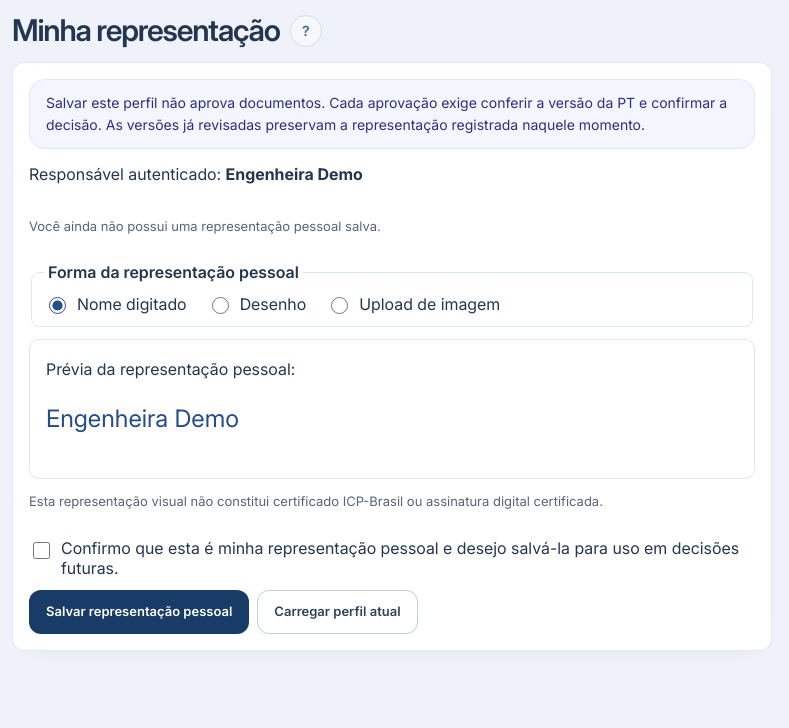
Test: representação pessoal reutilizável › exige confirmação explícita e salva somente perfil, sem aprovar PT
Click the button "Salvar representação pessoal". click: (139, 612)
box: [29,590,249,634]
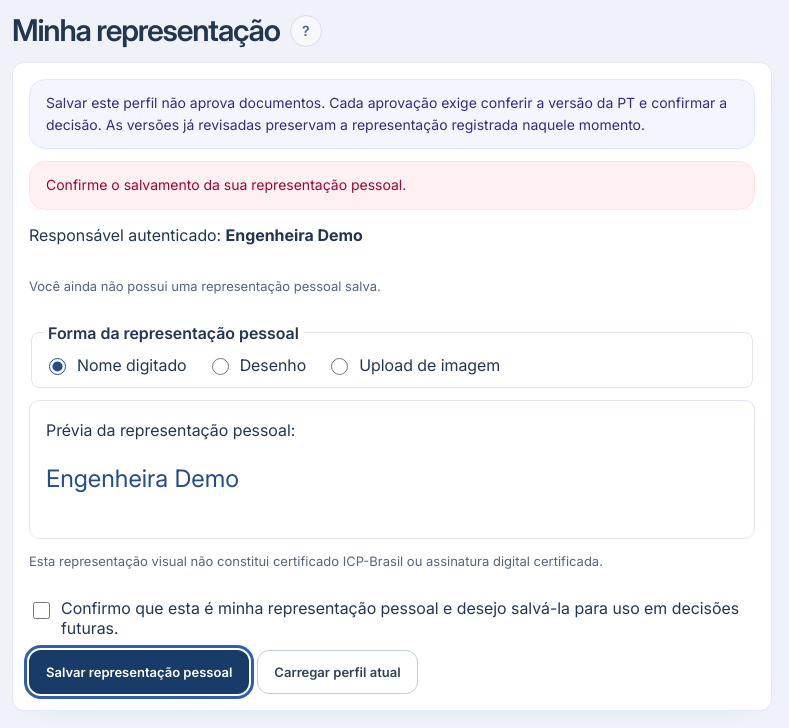
Check: the message "Confirme o salvamento da sua representação pessoal." is shown, box [29,161,755,210]
Click the checkbox. click: (42, 610)
box: [33,602,50,619]
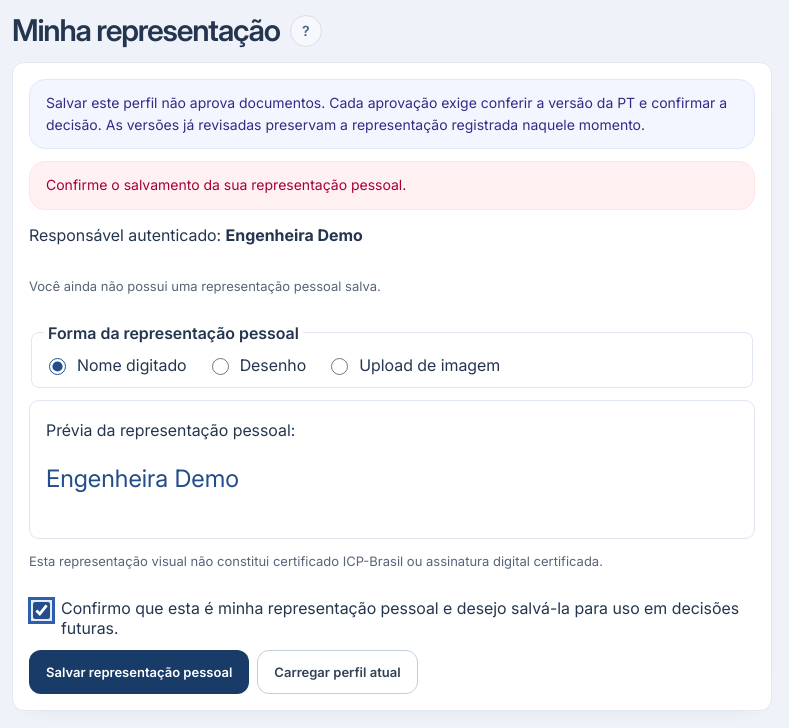
Click the button "Salvar representação pessoal". click: (139, 672)
box: [29,650,249,694]
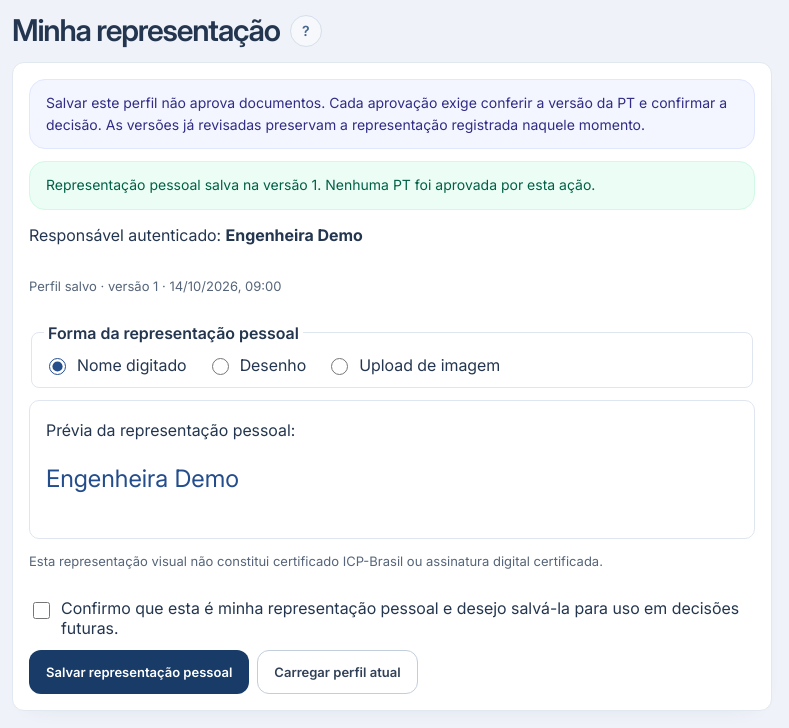
Check: the checkbox is not checked, box [33,602,50,619]
Check: the text "Nenhuma PT foi aprovada por esta ação" is shown, box [46,176,595,193]
